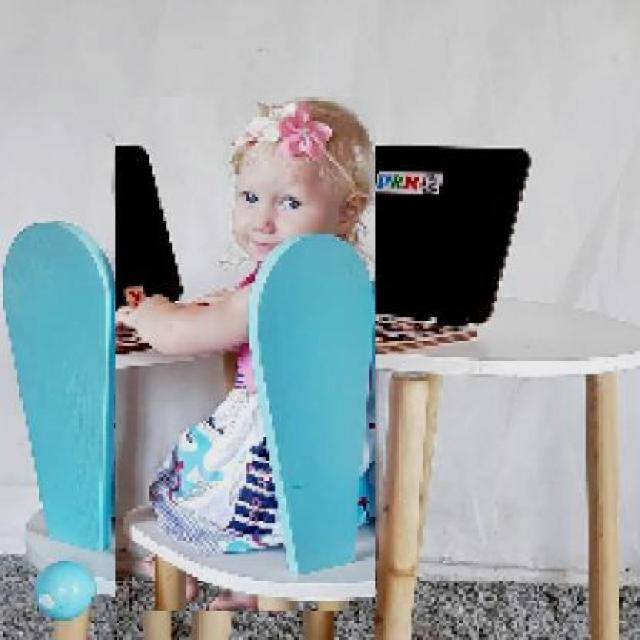child: (114, 97, 375, 612)
